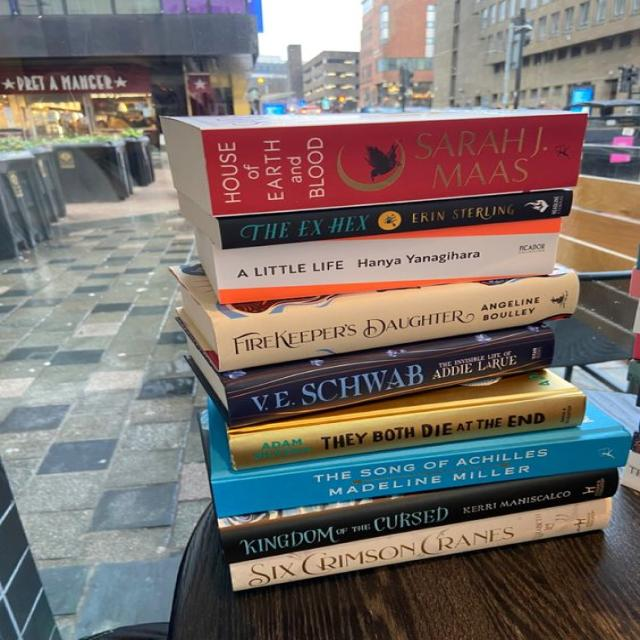book: (200, 115, 587, 217), (221, 468, 618, 565), (228, 497, 611, 592), (213, 273, 578, 372), (212, 434, 631, 518), (222, 334, 553, 429), (213, 216, 563, 305), (226, 393, 583, 472), (218, 191, 574, 251)
